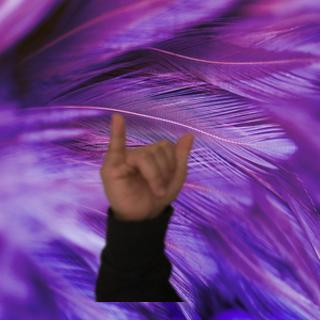HAVE: (91, 107, 205, 223)
